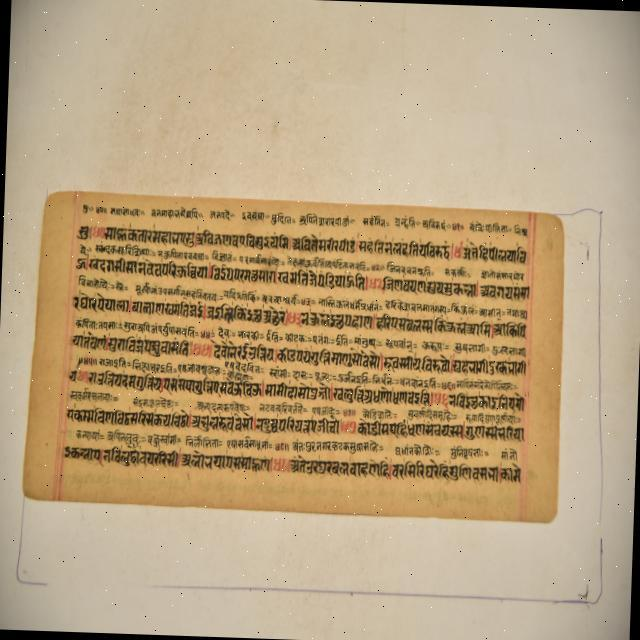text_paragraph: (21, 194, 559, 519)
